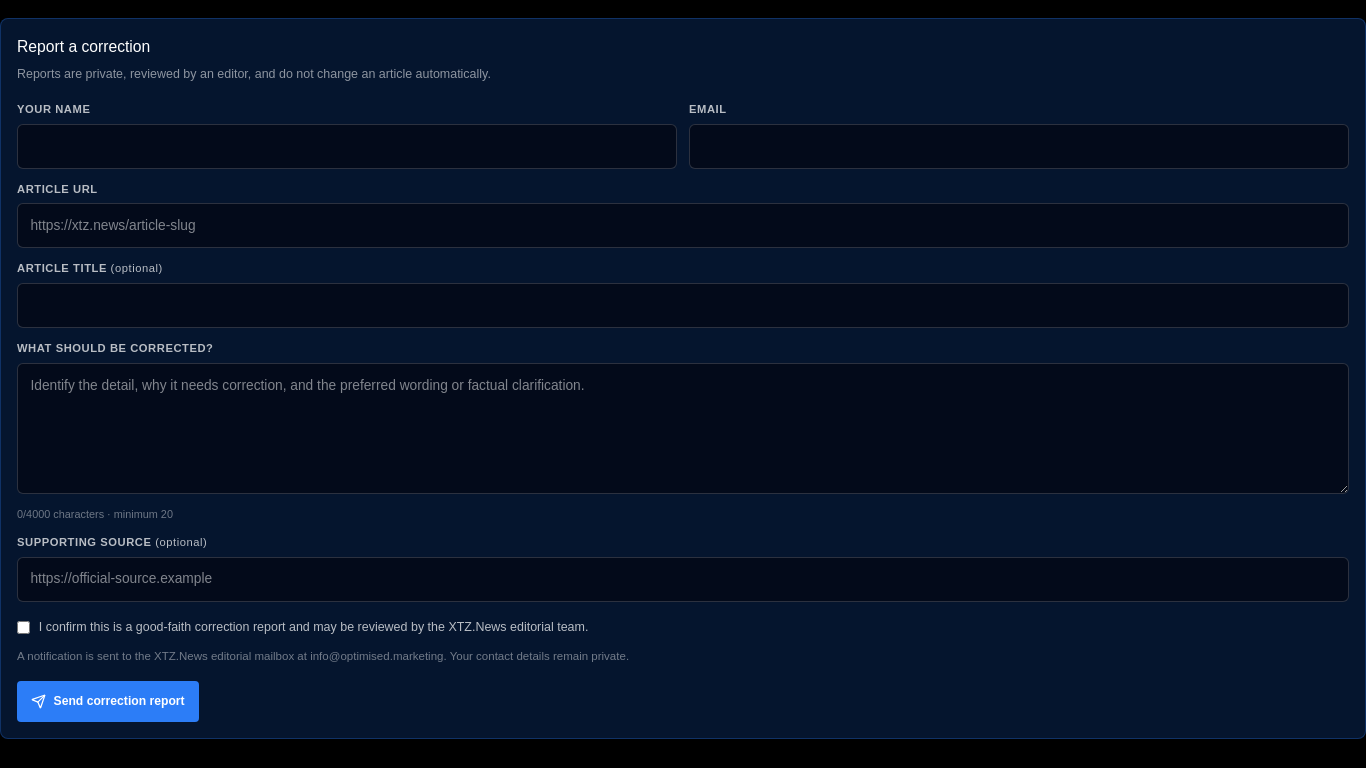
CorrectionReportForm › requires explicit editorial-review consent before submitting a private correction report
Type "Careful Reader" into the field labelled "Your name" at x=347, y=146, box [17, 124, 677, 168]
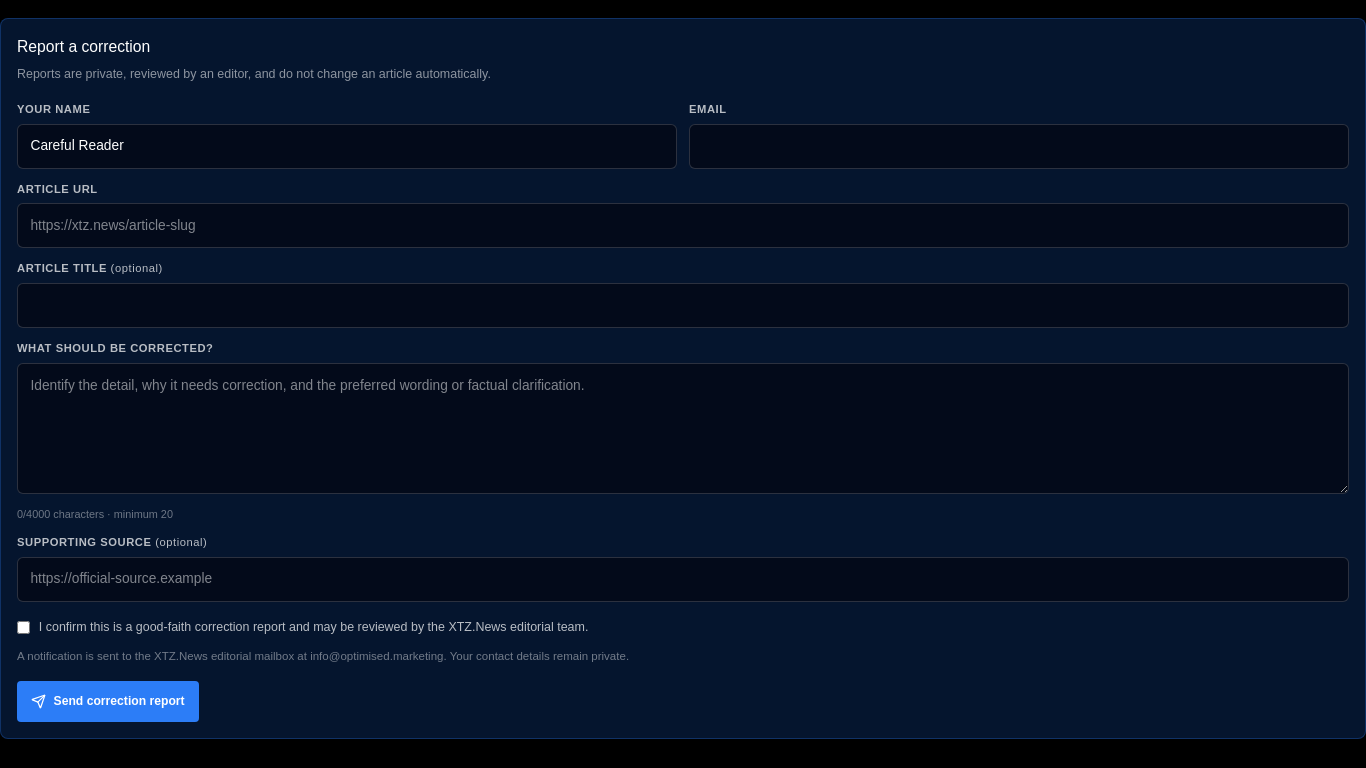
Type "reader@example.com" into the field labelled "Email" at x=1019, y=146, box [689, 124, 1349, 168]
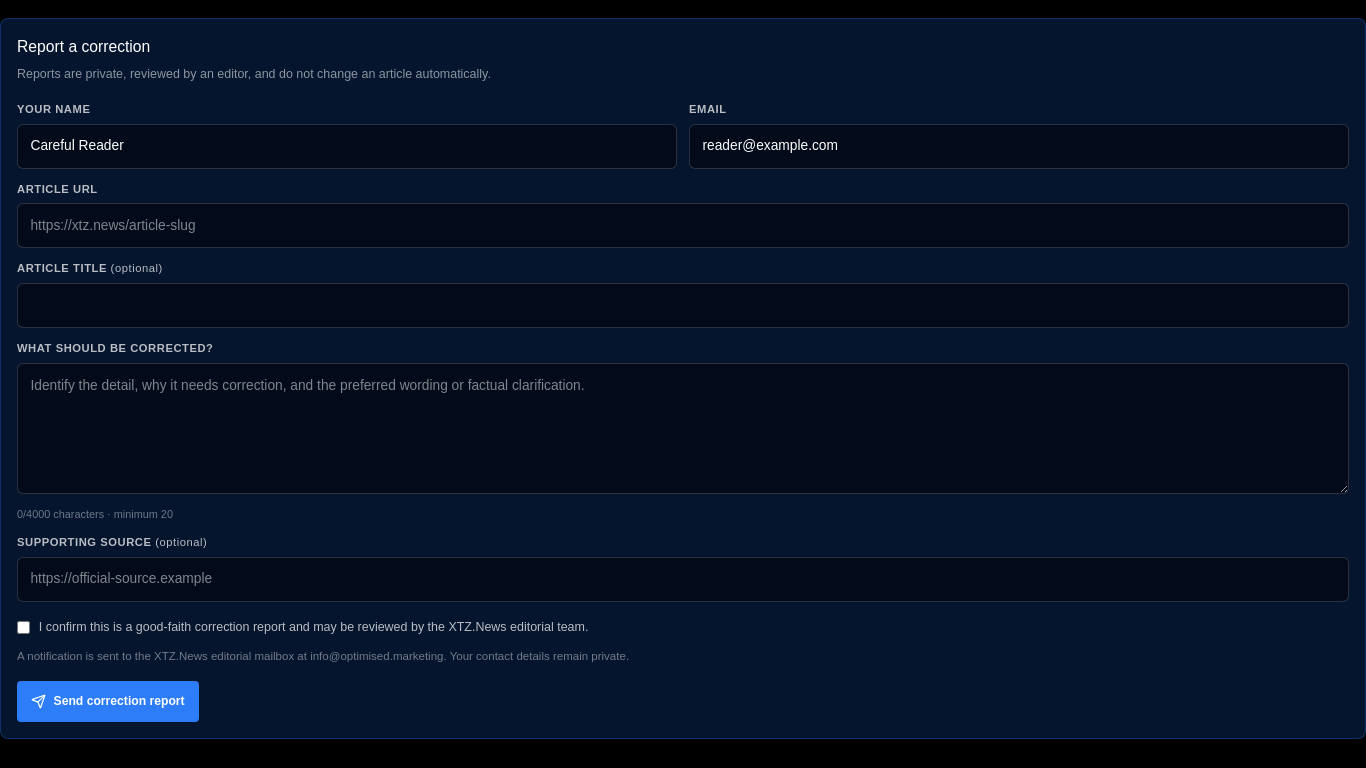
Type "https://xtz.news/example" into the field labelled "Article URL" at x=683, y=226, box [17, 203, 1349, 248]
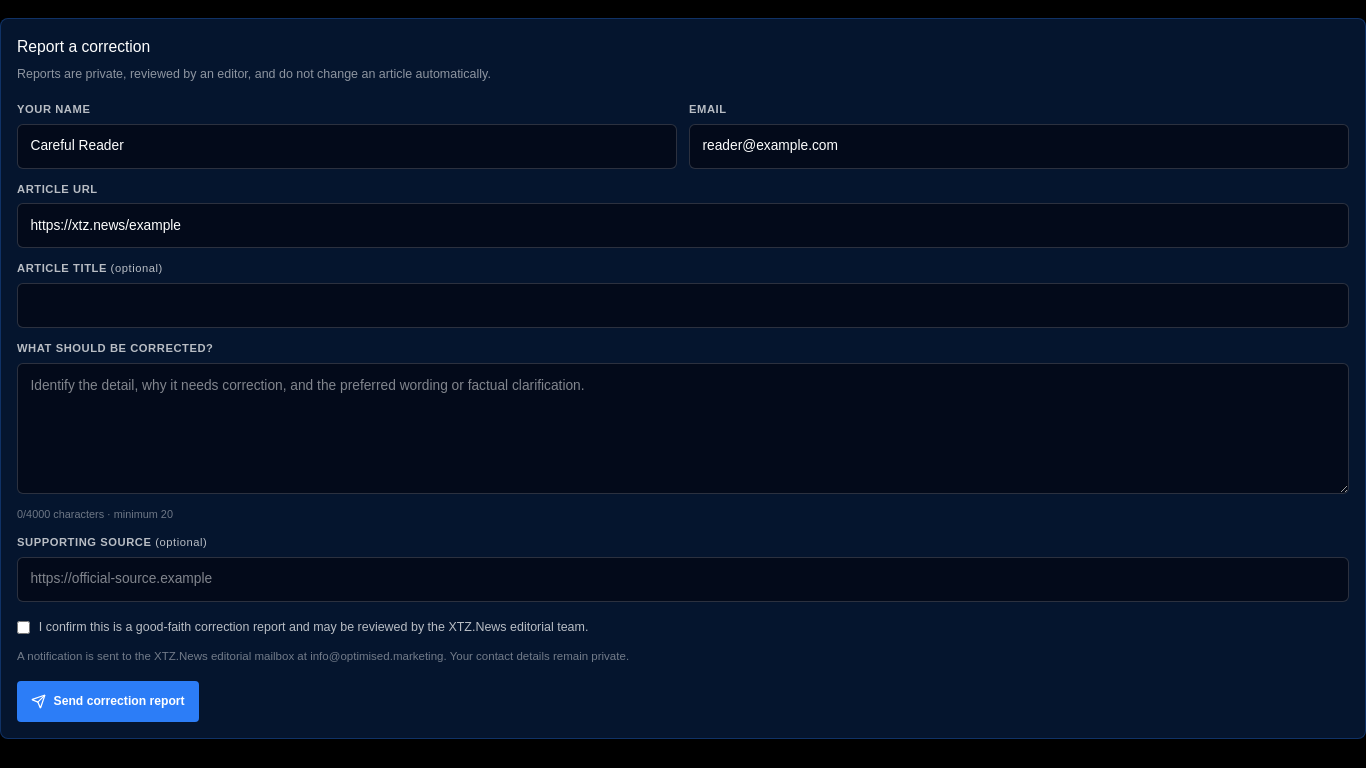
Replace the text in the text box labelled "What should be corrected?" with "Please verify the stated date against the official source." at x=683, y=429, box [17, 363, 1349, 494]
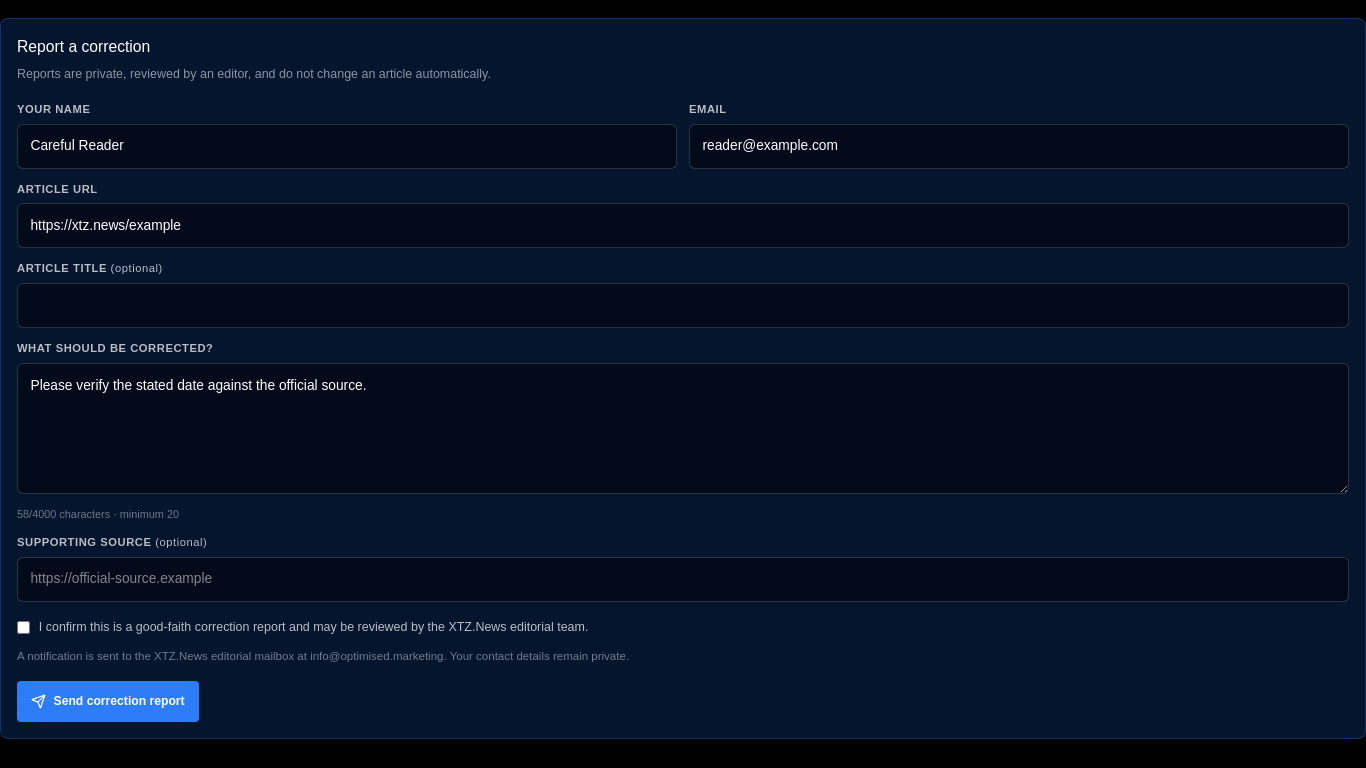
Click the button "Send correction report" at x=108, y=702, box [17, 681, 199, 722]
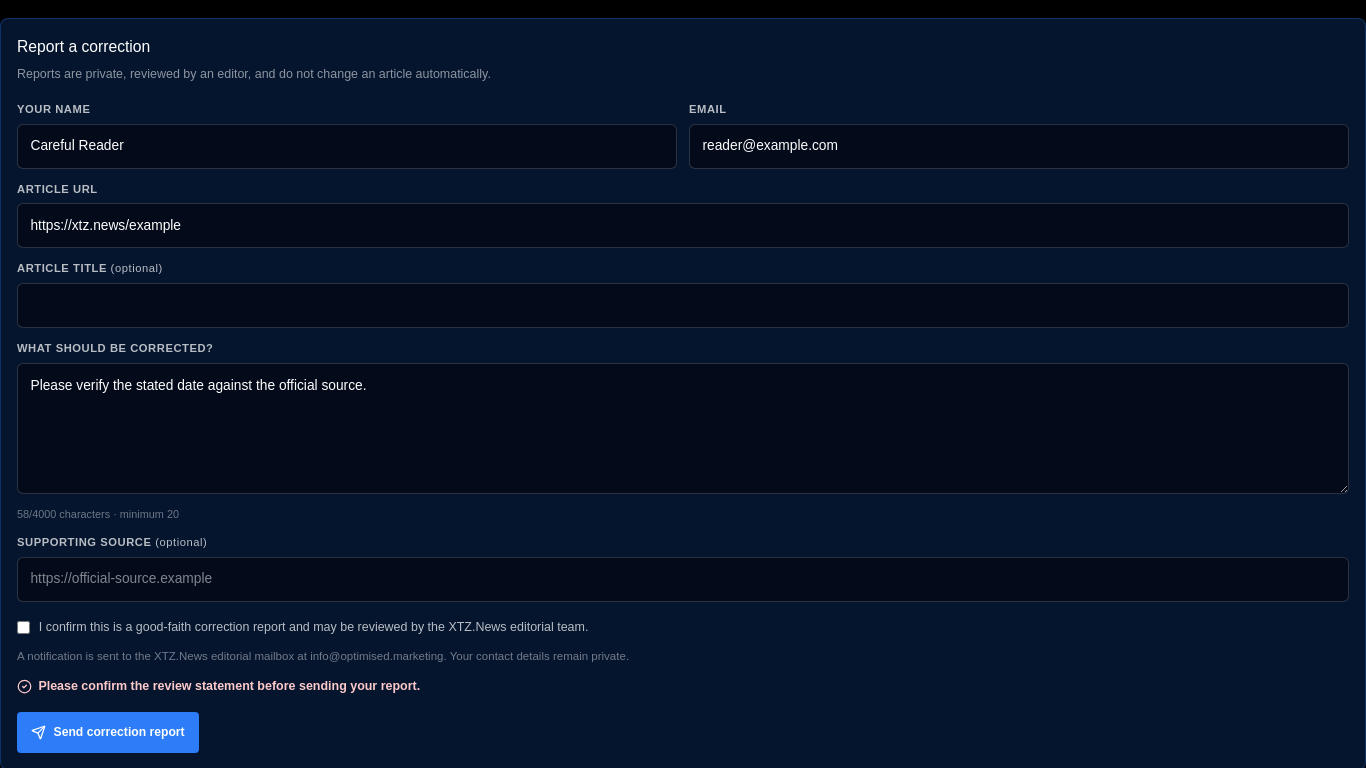
Expected: the text "Please confirm the review statement before sending your report." is shown, [17, 679, 420, 694]
